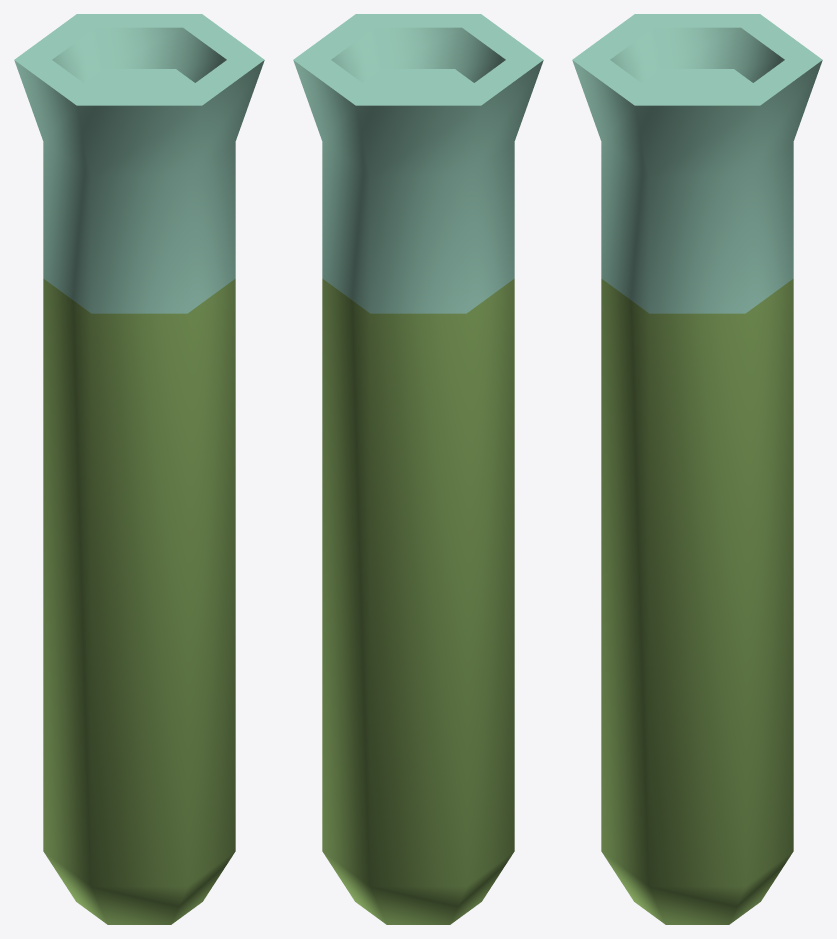
3 renders of one model, left to right at view 1: azimuth 30°, elevation 25°; view 2: azimuth 150°, elevation 25°; view 3: azimuth 270°, elevation 25°, orthographic.
Parts seen in each view (by area): view 1: Tube.001; view 2: Tube.001; view 3: Tube.001.
Part boxes in pixels (x1,y1,x2,y2): Tube.001: [14, 14, 264, 924]; Tube.001: [293, 14, 543, 924]; Tube.001: [572, 14, 822, 924].
Size of the model in its own units: 0.079 by 0.3381 by 0.0912.
